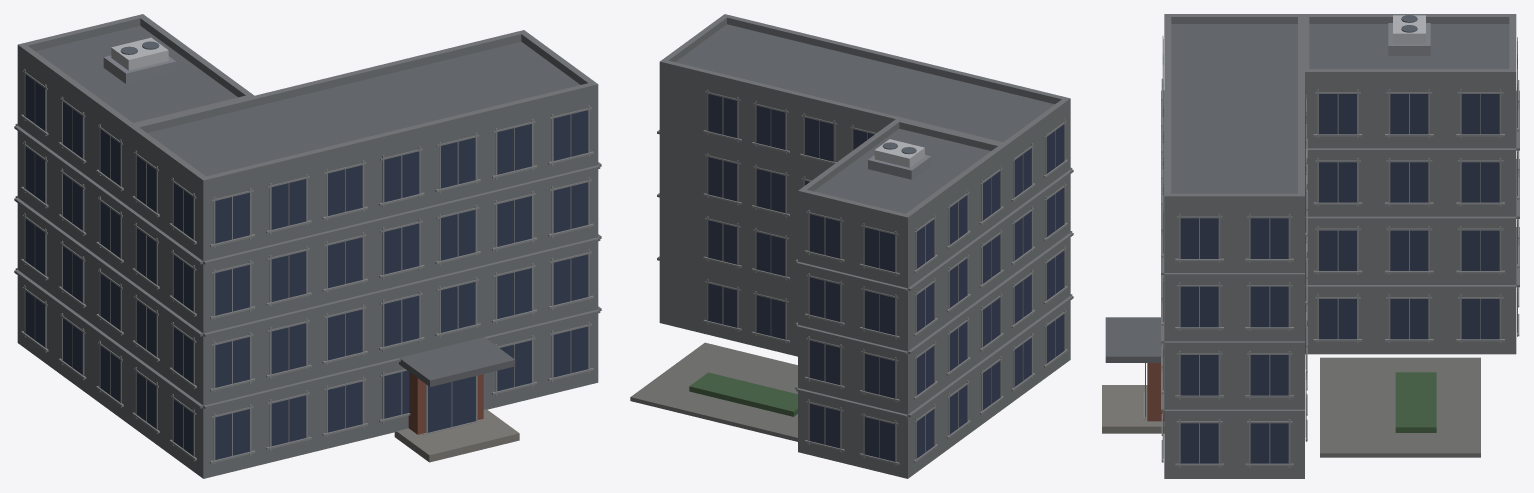
File: civic_l_lvl1.glb
The picture shows the model from 3 angles, left to right: view 1: azimuth 30°, elevation 25°; view 2: azimuth 150°, elevation 25°; view 3: azimuth 270°, elevation 25°; orthographic projection. The views are drawn at different scales.
Parts seen in each view (by area): view 1: civic_l; view 2: civic_l; view 3: civic_l.
Part boxes in pixels (x1,y1,x2,y2): civic_l: [14, 14, 601, 478]; civic_l: [630, 14, 1073, 478]; civic_l: [1102, 14, 1519, 478].
Size of the model in its own units: 1 by 0.7787 by 0.952.
